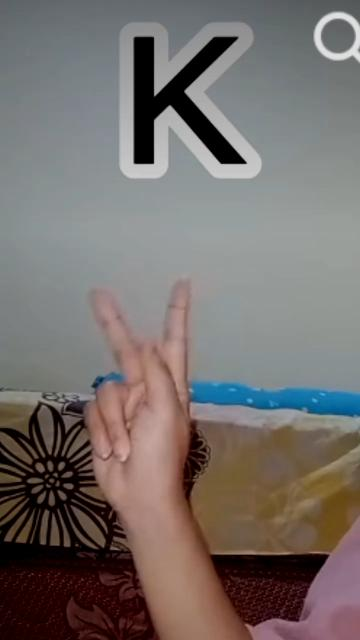K: (77, 275, 203, 507)
